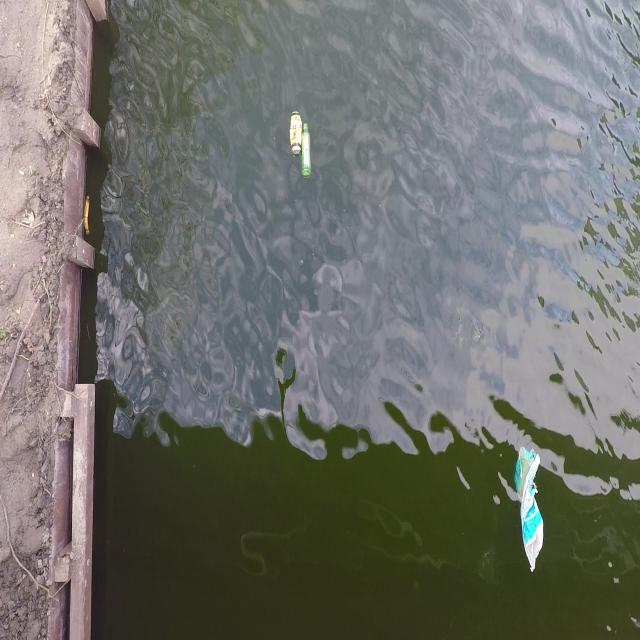Bouteille plastique: (301, 120, 314, 187)
Non plastique: (288, 105, 302, 159)
Sac plastique: (510, 441, 548, 586)
